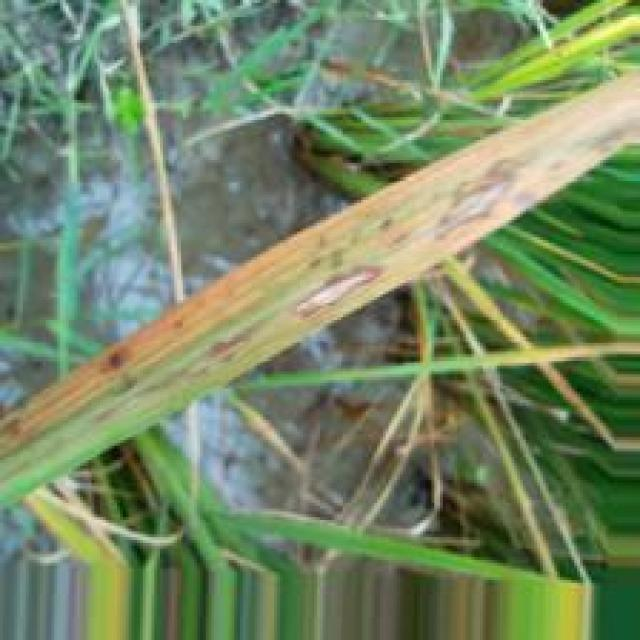Narrow_Brown_Leaf_Spot: (0, 55, 640, 456)
